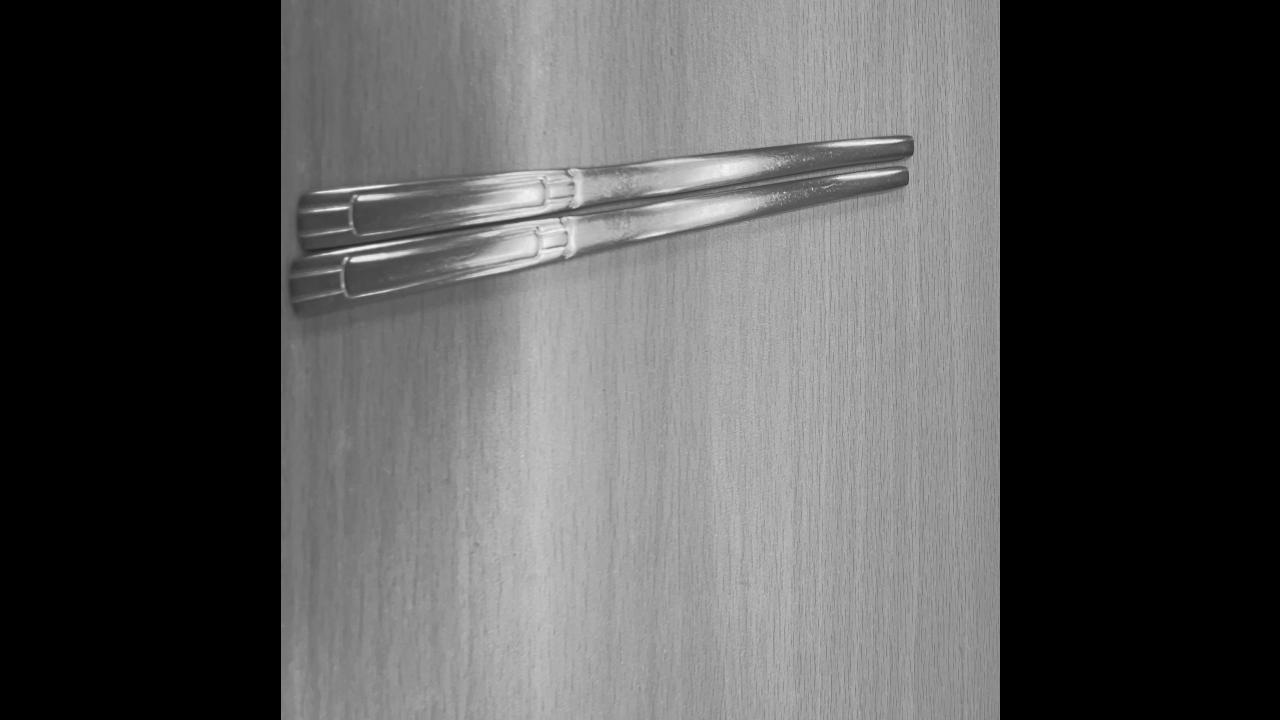chopstick: (292, 137, 910, 321)
